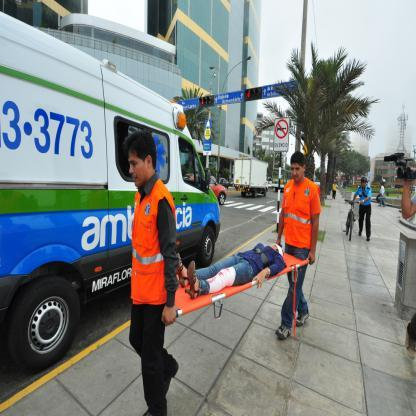ambulance: (0, 9, 223, 371)
